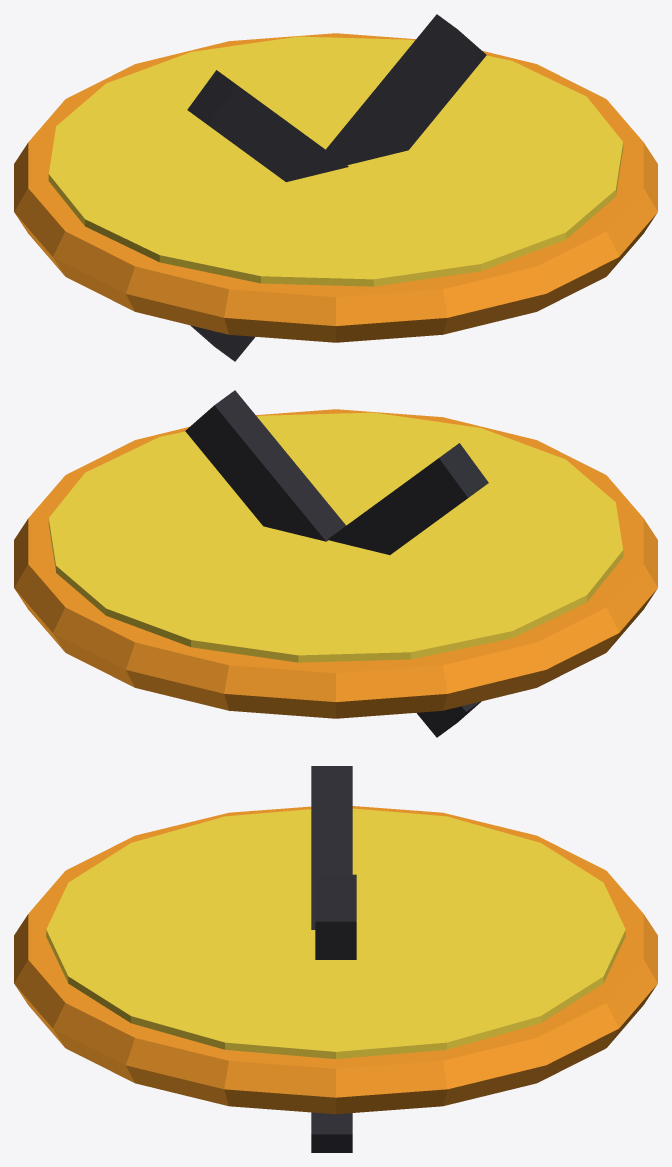
The model's file is combo_multiplier_token.glb.
The picture shows the model from 3 angles, top to bottom: view 1: azimuth 30°, elevation 25°; view 2: azimuth 150°, elevation 25°; view 3: azimuth 270°, elevation 25°; orthographic projection.
Visible parts, largest first — view 1: coin, edge, x1, x2; view 2: coin, edge, x1, x2; view 3: coin, edge, x2, x1.
Boxes of the visible parts, bbox=[...] form: coin: bbox=[48, 36, 623, 286]; edge: bbox=[14, 33, 657, 342]; x1: bbox=[190, 14, 486, 361]; x2: bbox=[187, 70, 348, 182]; coin: bbox=[48, 412, 623, 662]; edge: bbox=[14, 409, 657, 718]; x1: bbox=[185, 390, 481, 737]; x2: bbox=[328, 443, 488, 554]; coin: bbox=[46, 808, 625, 1058]; edge: bbox=[14, 806, 657, 1114]; x2: bbox=[311, 766, 352, 1152]; x1: bbox=[315, 874, 356, 959].
Bounding box in the file's own units: 0.79 × 0.3711 × 0.778.
